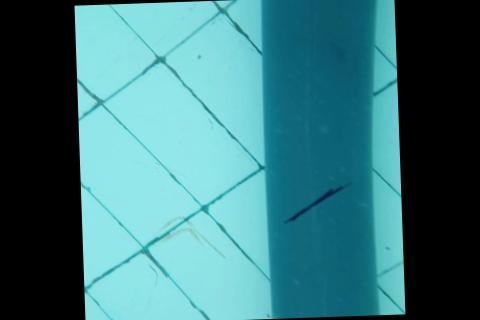keretakan: (283, 183, 354, 222)
